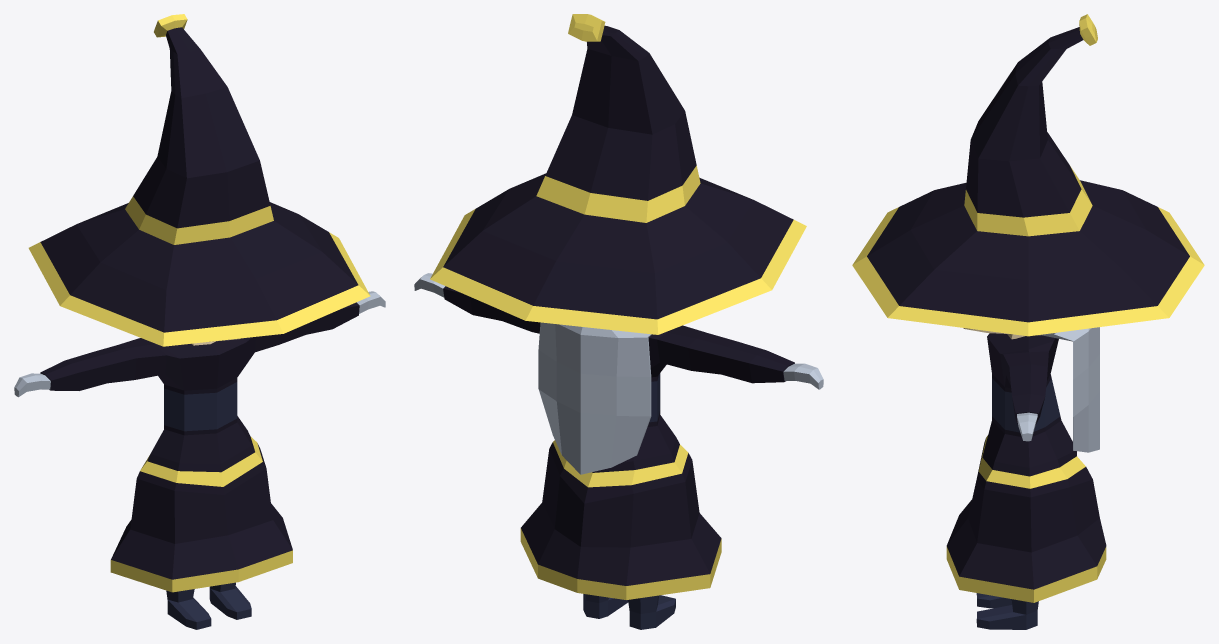
Rendered from haxa.glb.
3 views of the same model, side by side, from view 1: azimuth 30°, elevation 25°; view 2: azimuth 150°, elevation 25°; view 3: azimuth 270°, elevation 25° (orthographic). The views are drawn at different scales.
Visible parts, largest first — view 1: ChibiWitch; view 2: ChibiWitch; view 3: ChibiWitch.
Part boxes in pixels (x1,y1,x2,y2): ChibiWitch: (14, 14, 385, 629); ChibiWitch: (414, 14, 823, 629); ChibiWitch: (852, 14, 1204, 629).
Bounding box in the file's own units: 5.43 × 8.07 × 4.33.
